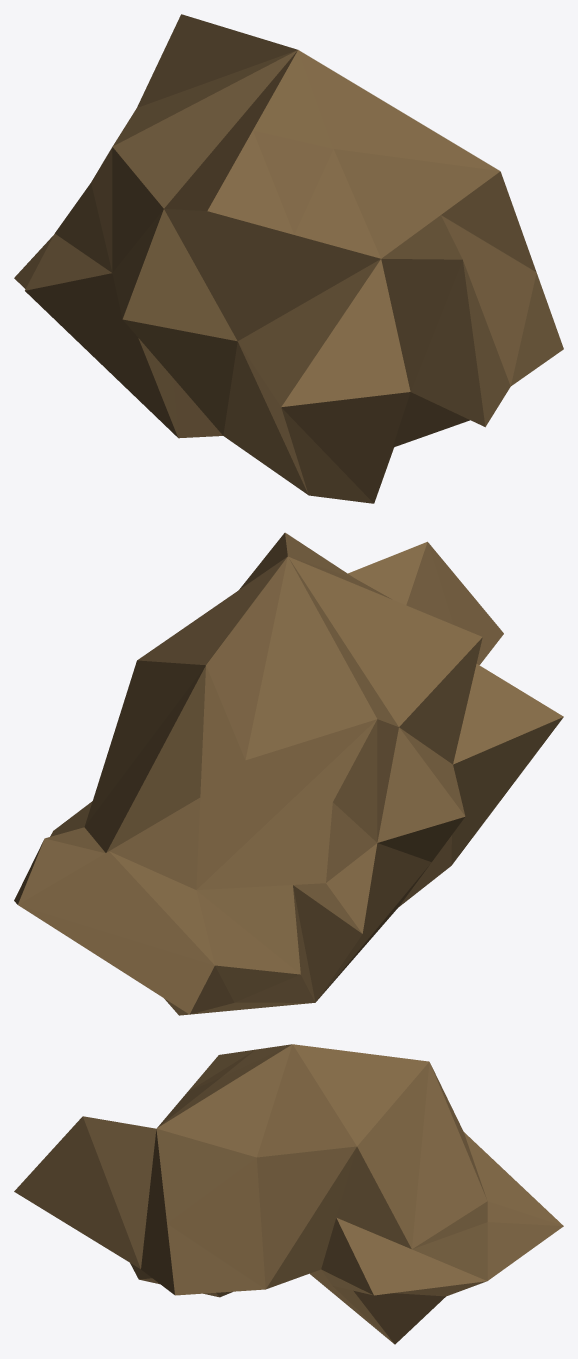
The model's file is Asteroid 4.fbx.
3 renders of one model, top to bottom at view 1: azimuth 30°, elevation 25°; view 2: azimuth 150°, elevation 25°; view 3: azimuth 270°, elevation 25°, orthographic. The views are drawn at different scales.
Parts seen in each view (by area): view 1: Asteroid_4_1; view 2: Asteroid_4_1; view 3: Asteroid_4_1.
Boxes of the visible parts, x1,y1,x2,y2 form: Asteroid_4_1: (14,14,563,503); Asteroid_4_1: (14,532,563,1015); Asteroid_4_1: (14,1044,563,1344).
Size of the model in its own units: 1790 by 2017 by 3485.
